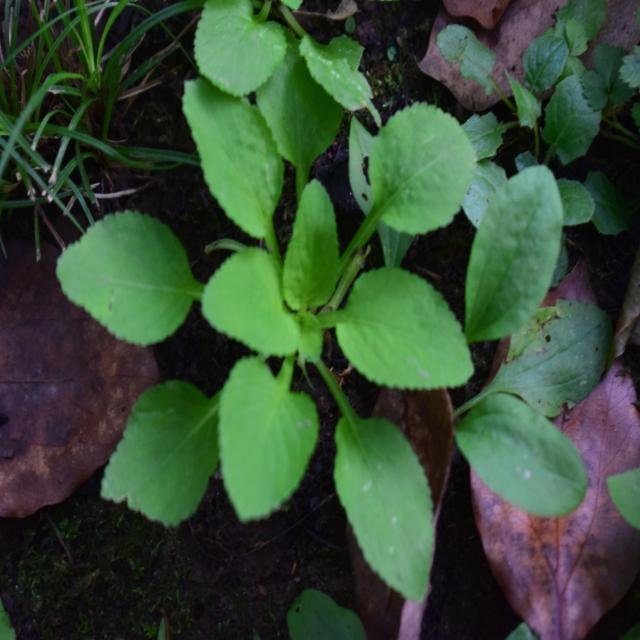Viola: (94, 64, 472, 542)
